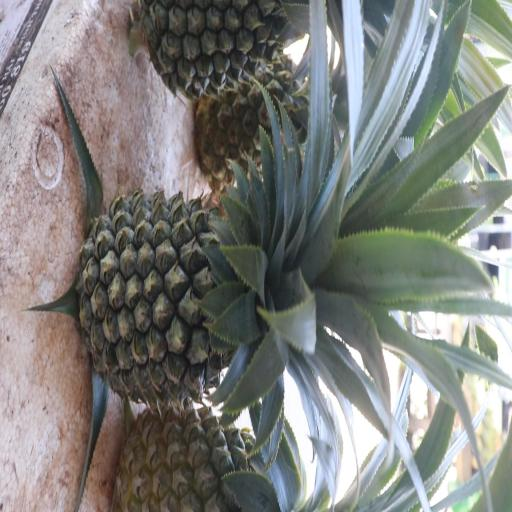------------------------------: (117, 395, 299, 512)
